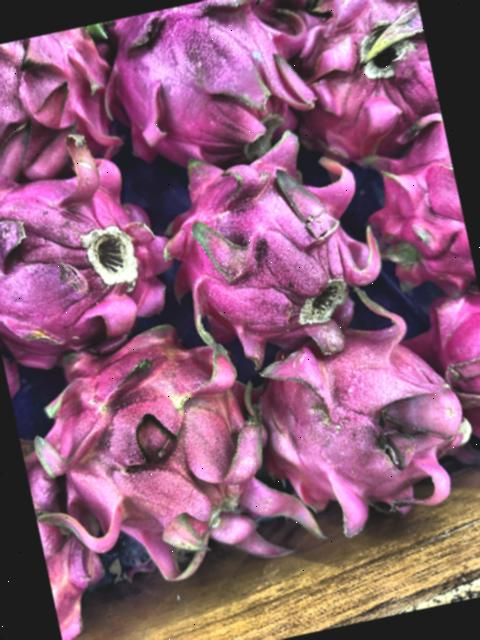buah-naga-matang: (10, 293, 314, 603), (152, 114, 394, 363), (235, 300, 480, 536), (0, 127, 183, 346), (96, 0, 317, 170), (267, 0, 443, 154), (350, 107, 478, 304), (0, 22, 132, 189), (405, 283, 480, 478)
